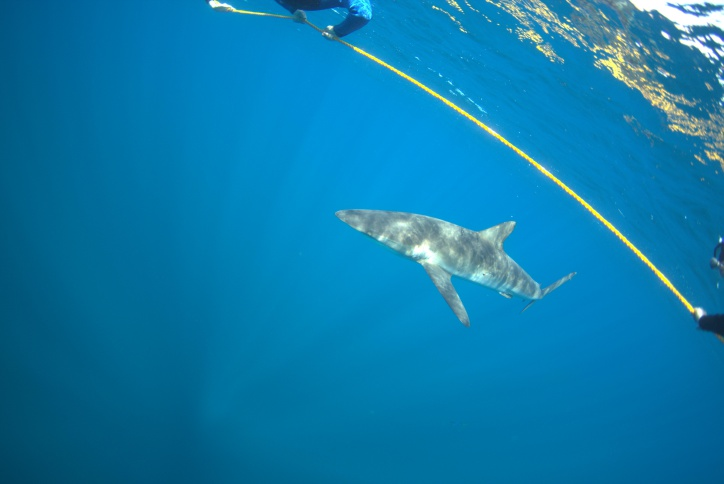Sedoso: (315, 195, 578, 334)
